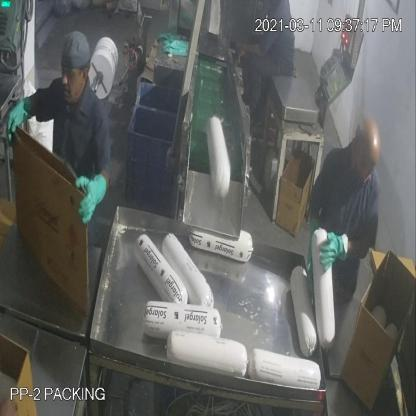glove: (76, 166, 110, 228), (8, 91, 41, 148), (319, 226, 347, 277)
